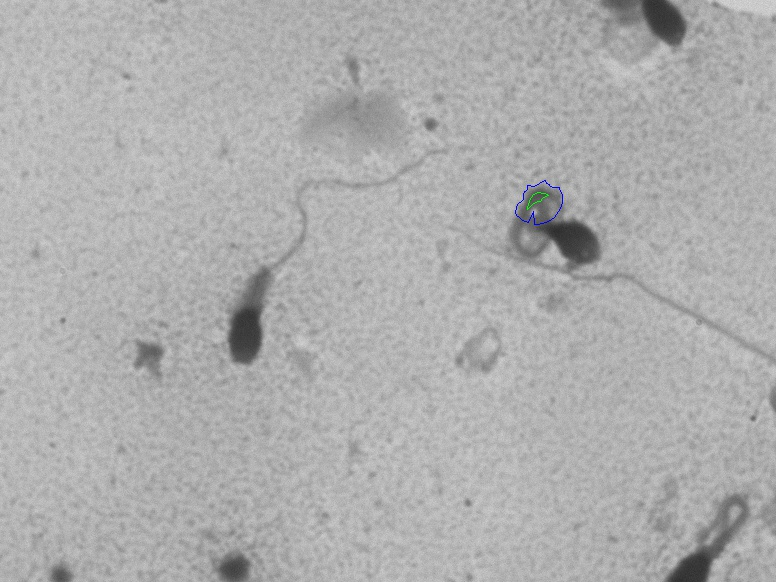Abnormal: (200, 113, 451, 384)
